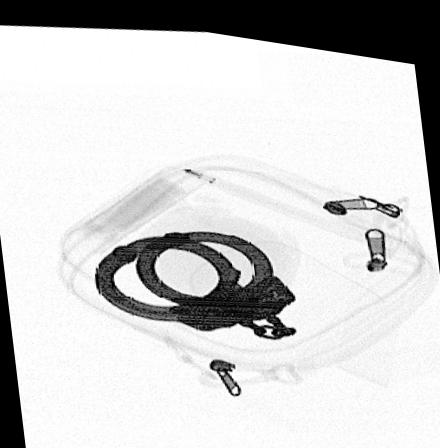HandCuffs: (89, 223, 302, 332)
